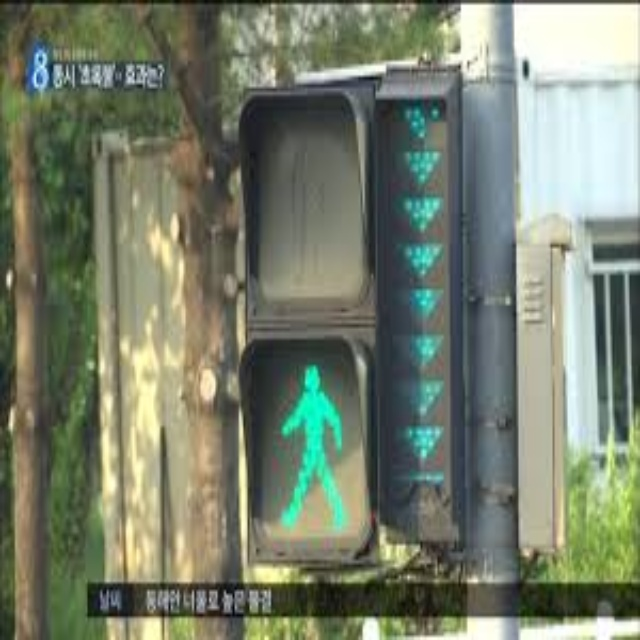green_light: (271, 361, 357, 528), (393, 283, 441, 327), (395, 424, 444, 462), (391, 333, 447, 366), (397, 196, 443, 234), (395, 150, 445, 184), (394, 383, 444, 417), (398, 240, 443, 271)
